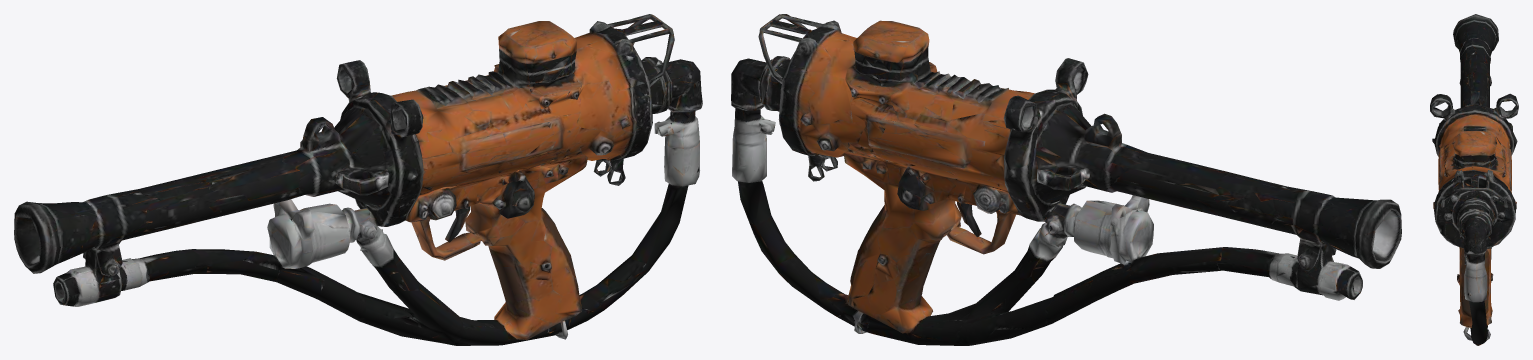
File: gun_flame_lo.glb
3 renders of one model, left to right at view 1: azimuth 30°, elevation 25°; view 2: azimuth 150°, elevation 25°; view 3: azimuth 270°, elevation 25°, orthographic. The views are drawn at different scales.
Size of the model in its own units: 1.9 by 0.8363 by 0.3433.
Materials: 1 (1 with a texture image).
